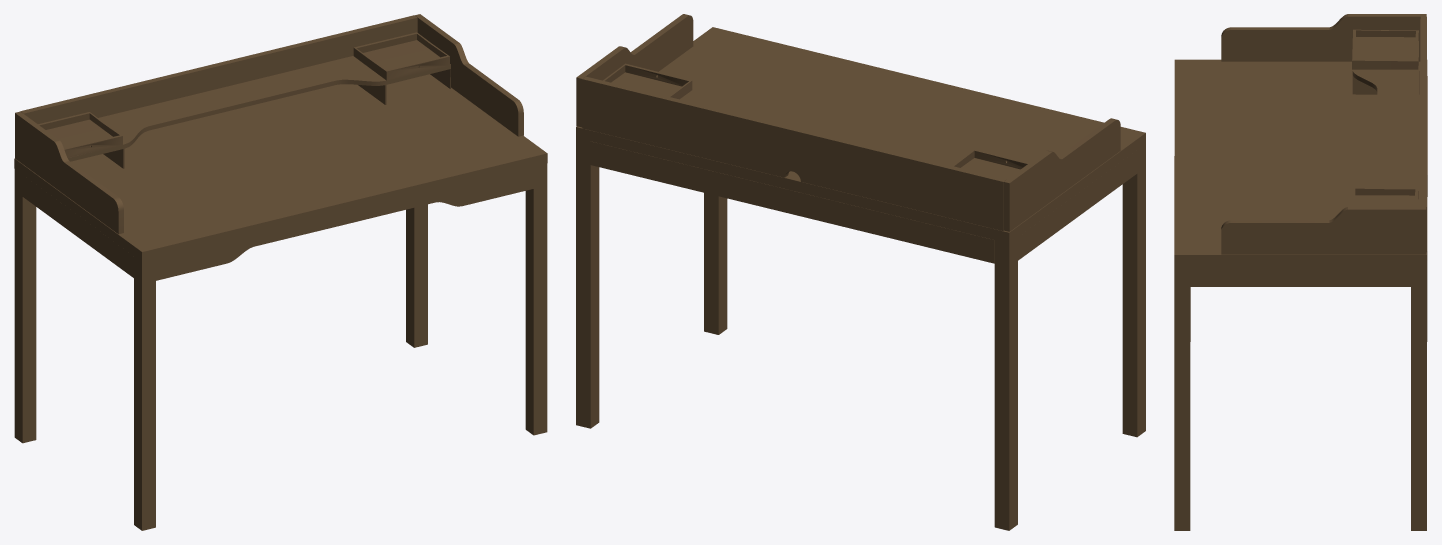
The model's file is IKEA-Gustav_Desk-3D.obj.
3 views of the same model, side by side, from view 1: azimuth 30°, elevation 25°; view 2: azimuth 150°, elevation 25°; view 3: azimuth 270°, elevation 25° (orthographic). The views are drawn at different scales.
Parts seen in each view (by area): view 1: Cylinder02; view 2: Cylinder02; view 3: Cylinder02.
Part boxes in pixels (x1,y1,x2,y2): Cylinder02: (14, 14, 547, 530); Cylinder02: (576, 14, 1145, 530); Cylinder02: (1174, 14, 1427, 530).
Bounding box in the file's own units: 1099 × 842 × 601.
